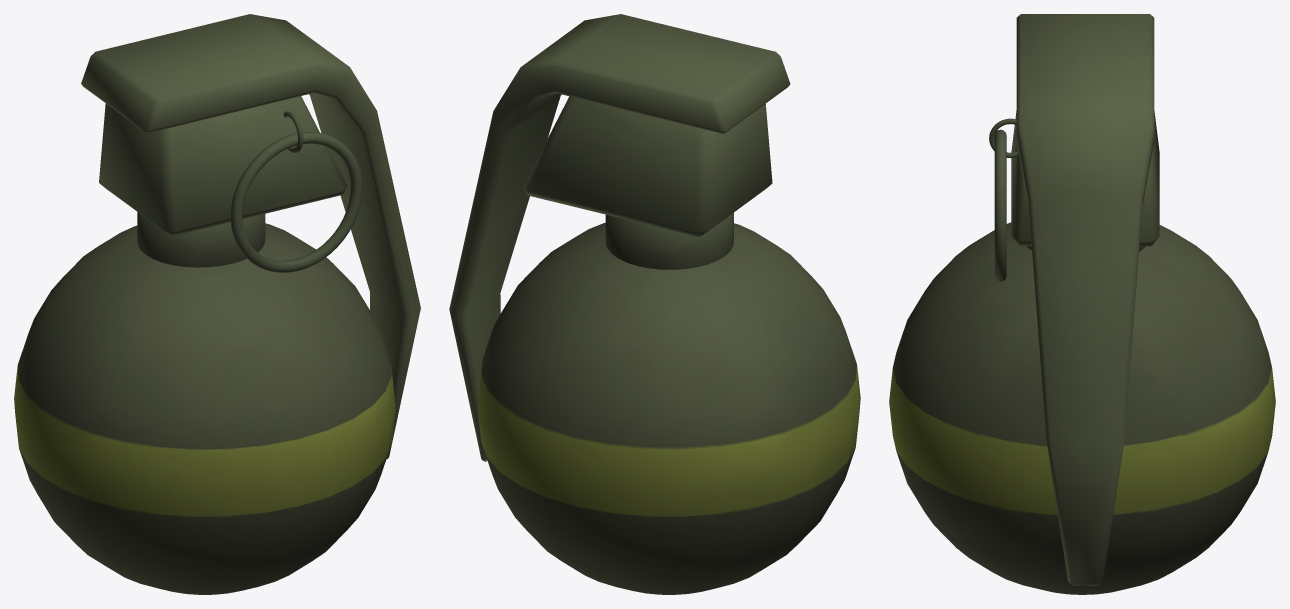
The model's file is hgrenade.fbx.
3 renders of one model, left to right at view 1: azimuth 30°, elevation 25°; view 2: azimuth 150°, elevation 25°; view 3: azimuth 270°, elevation 25°, orthographic.
Parts seen in each view (by area): view 1: hgrenade; view 2: hgrenade; view 3: hgrenade.
Part boxes in pixels (x1,y1,x2,y2): hgrenade: (14, 14, 420, 594); hgrenade: (449, 14, 860, 594); hgrenade: (889, 14, 1275, 594).
Bounding box in the file's own units: 6.1 × 8.28 × 5.52.
1 material, 1 textured.
